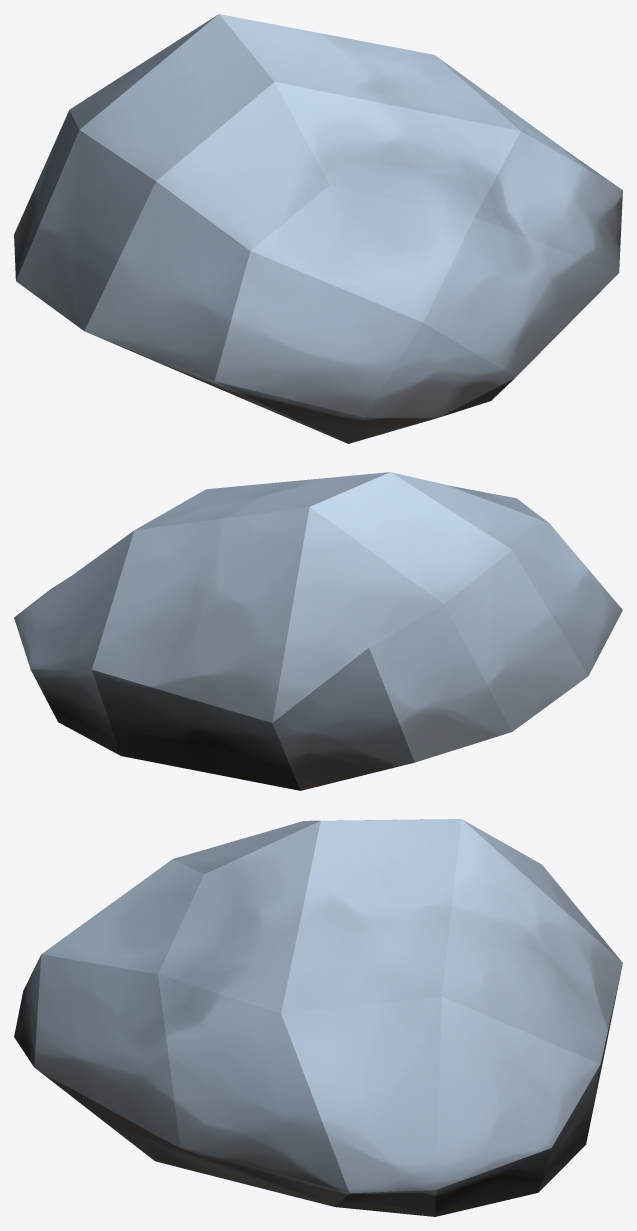
File: SM_Stone_02.glb
3 renders of one model, top to bottom at view 1: azimuth 30°, elevation 25°; view 2: azimuth 150°, elevation 25°; view 3: azimuth 270°, elevation 25°, orthographic. The views are drawn at different scales.
Visible parts, largest first — view 1: SM_Stone_02; view 2: SM_Stone_02; view 3: SM_Stone_02.
Part boxes in pixels (box(x1,y1,x2,y2)): SM_Stone_02: box(14, 14, 622, 443); SM_Stone_02: box(14, 472, 622, 790); SM_Stone_02: box(14, 819, 622, 1216).
Size of the model in its own units: 0.3889 by 0.21 by 0.3731.
Materials: 1 (1 with a texture image).
